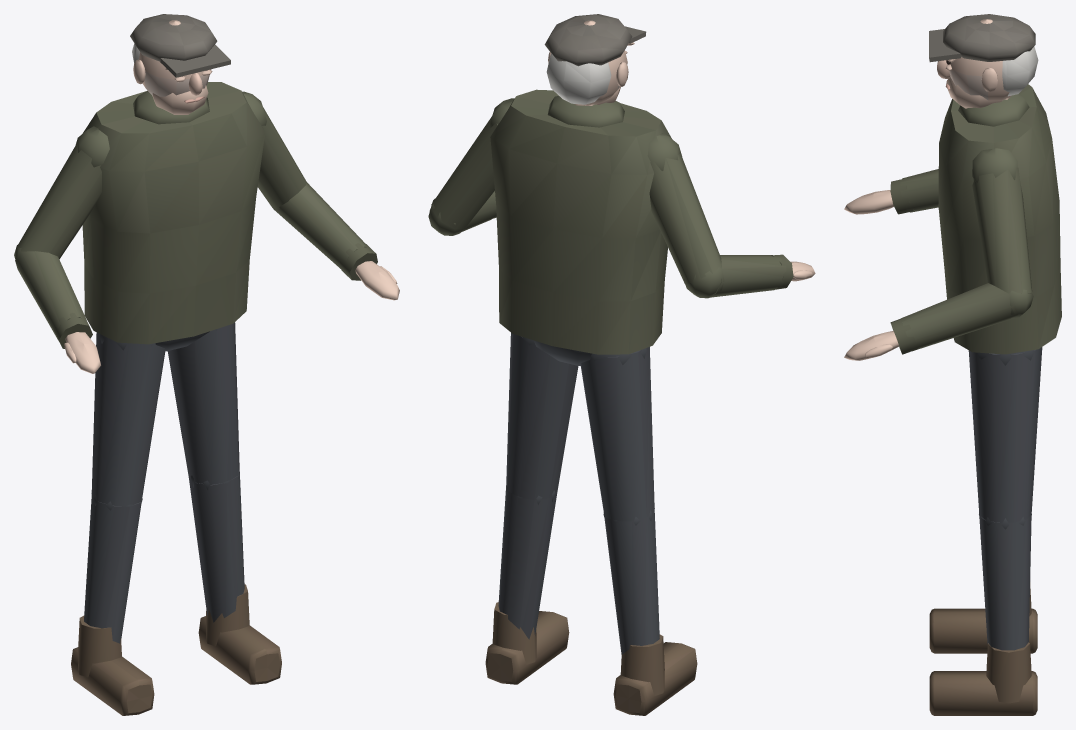
File: ellis_standing_a_hips.glb
The picture shows the model from 3 angles, left to right: view 1: azimuth 30°, elevation 25°; view 2: azimuth 150°, elevation 25°; view 3: azimuth 270°, elevation 25°; orthographic projection.
Visible parts, largest first — view 1: body; view 2: body; view 3: body.
Boxes of the visible parts, x1,y1,x2,y2 form: body: [14, 14, 399, 715]; body: [428, 14, 815, 715]; body: [844, 14, 1061, 715].
Size of the model in its own units: 0.8873 by 1.72 by 0.5158.
